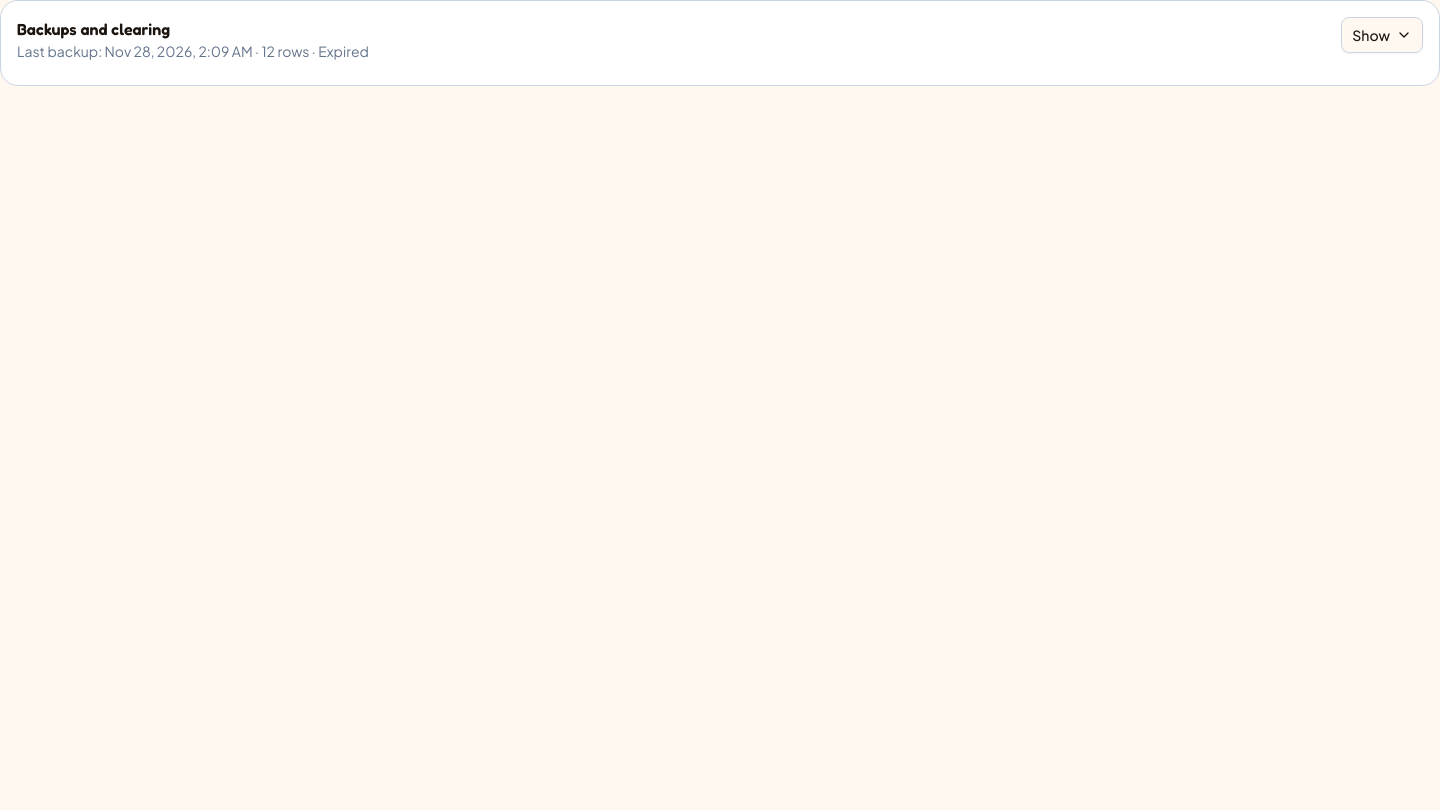
Activity Log backup panel › moves an expired ready backup to history with Expired wording
Expected: the text "Last backup: Nov 28, 2026, 2:09 AM · 12 rows · Expired" is shown, [17,42,369,60]
Click the button with aria-label "Show backups and clearing": (1382, 35) [1341,17,1423,53]
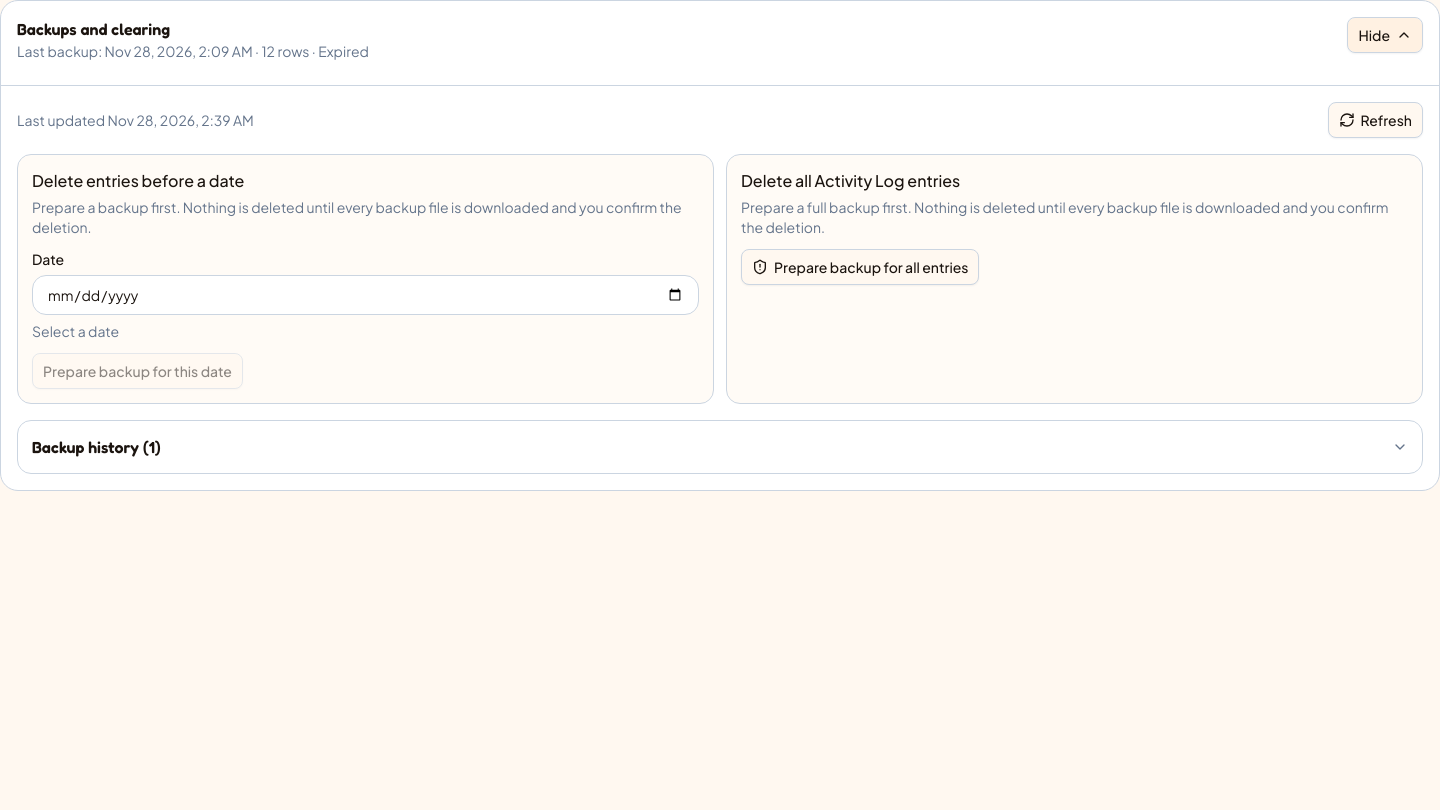
Click the button "Backup history (1)": (90, 447) [18,421,1422,473]
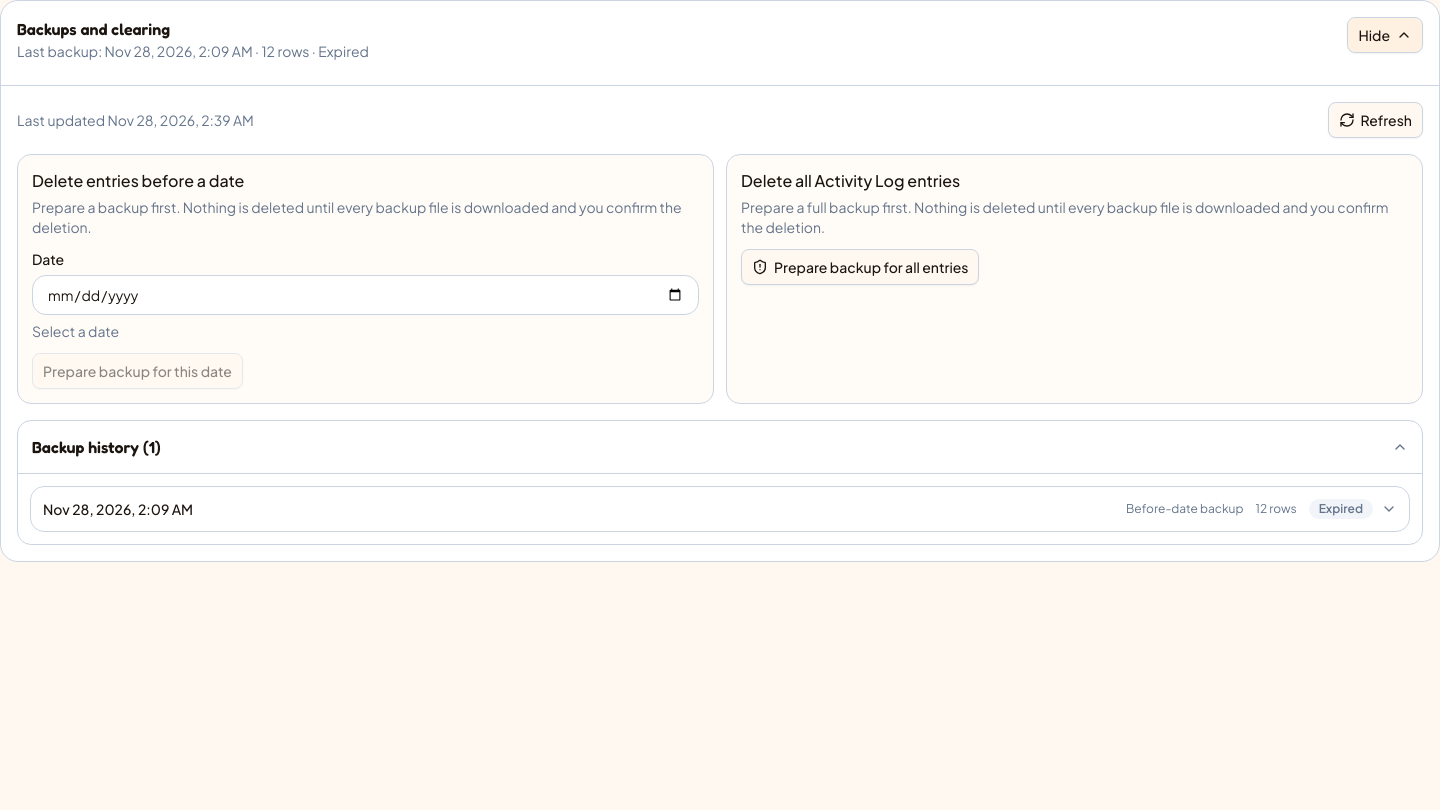
Expected: the text "Expired" is shown, [1309,499,1373,519]
